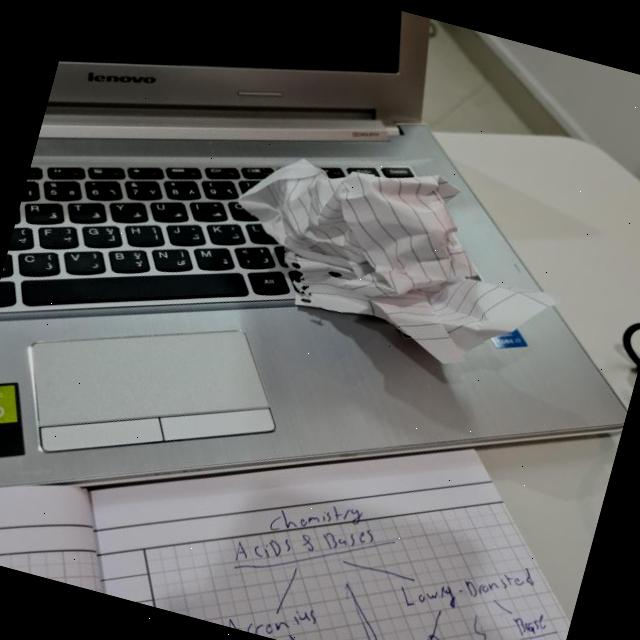trash: (226, 132, 564, 372)
